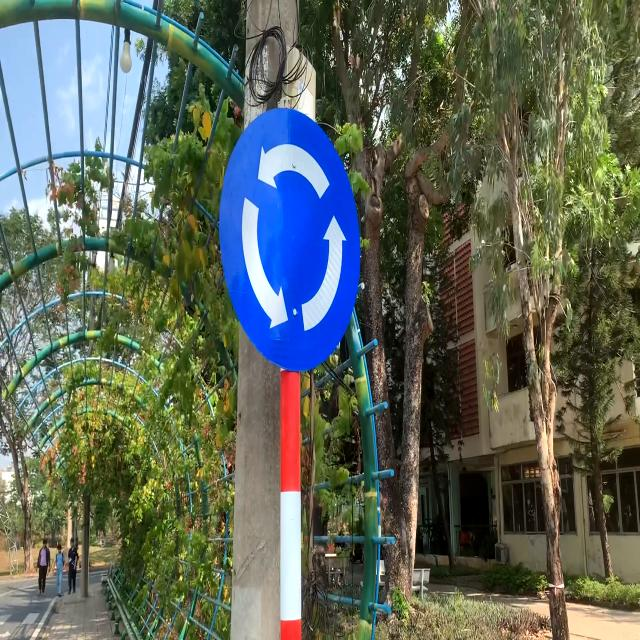R.303: (218, 107, 362, 374)
